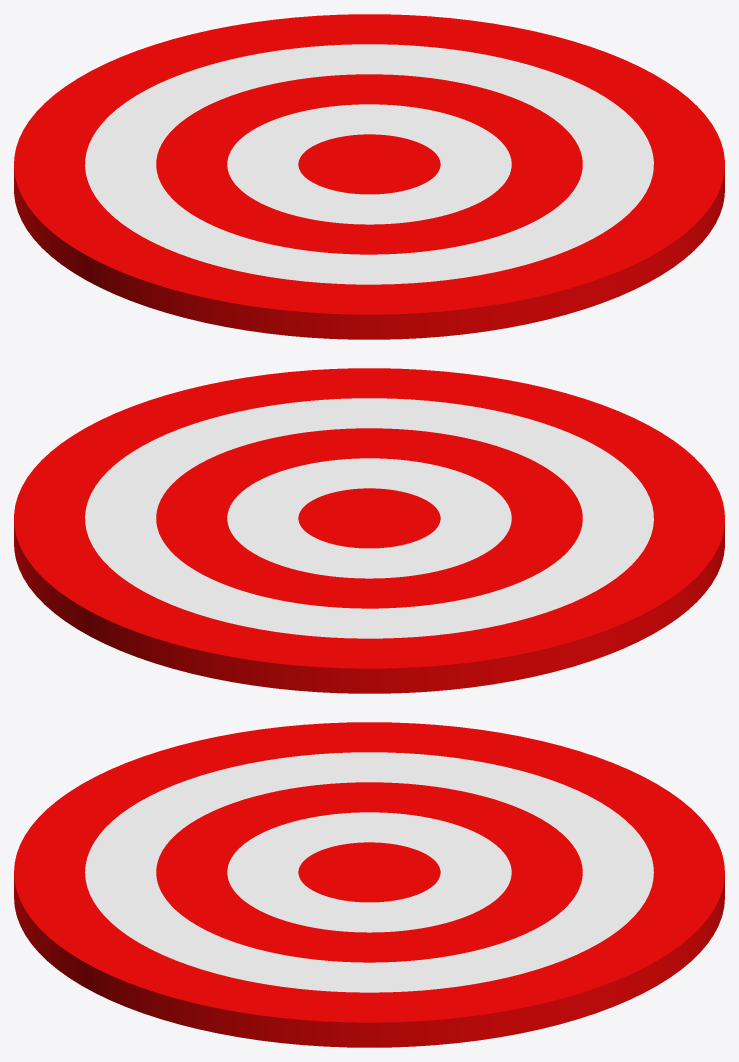
File: target.FBX
3 renders of one model, top to bottom at view 1: azimuth 30°, elevation 25°; view 2: azimuth 150°, elevation 25°; view 3: azimuth 270°, elevation 25°, orthographic.
Visible parts, largest first — view 1: Cylinder002; view 2: Cylinder002; view 3: Cylinder002.
Part boxes in pixels (x1,y1,x2,y2): Cylinder002: (14, 14, 724, 339); Cylinder002: (14, 368, 724, 693); Cylinder002: (14, 722, 724, 1047).
Size of the model in its own units: 1.31 by 0.0512 by 1.31.
